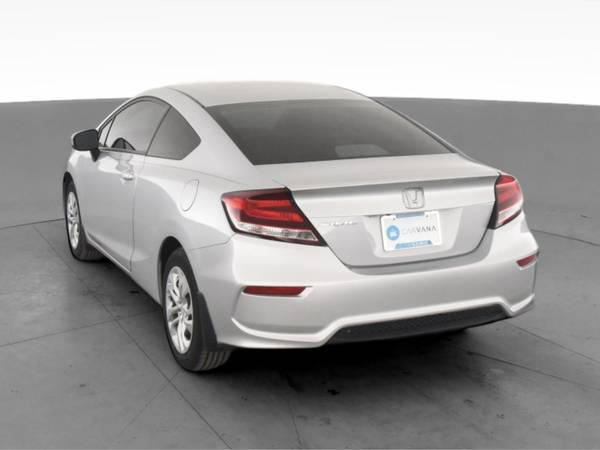Front_Left_Door: (80, 152, 145, 278)
Front_Left_Window: (97, 98, 171, 160)
Left_Taillight: (222, 187, 328, 248)
Rear_Bumper: (183, 205, 540, 348)
Rear_Fender: (135, 105, 247, 305)
Rear_Windshield: (212, 100, 459, 165)
Right_Taillight: (492, 175, 524, 228)
Roof: (130, 82, 375, 188)
Tailgate: (258, 156, 500, 266)
Wheel: (161, 253, 228, 378), (63, 186, 99, 262)
